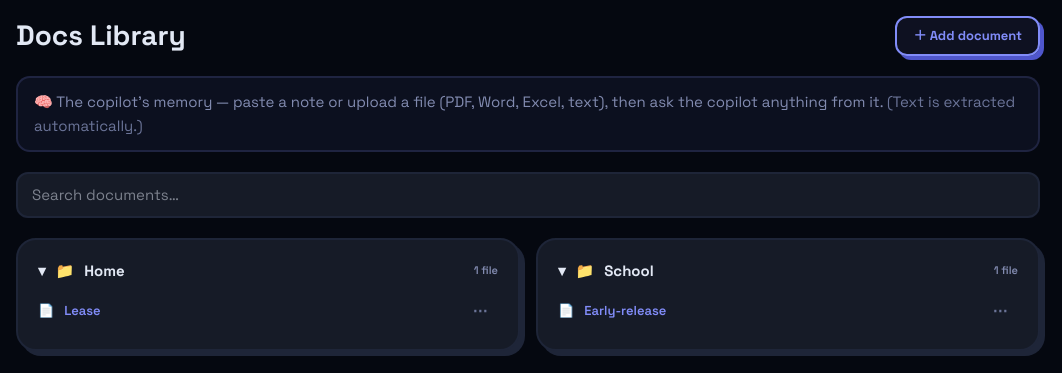
Test: LibraryPage (A5 — real CRUD + search) › filters docs by the search box
In the field labelled "Search documents": coordinates (528, 195) [16,172,1040,218], type "rent"
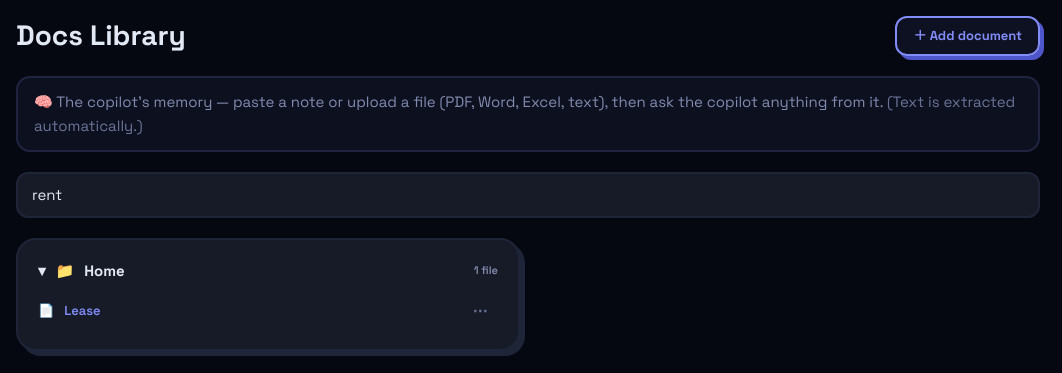
Check: the text "Lease" is shown, box [64,301,101,321]
Check: the button "Early-release" is gone
